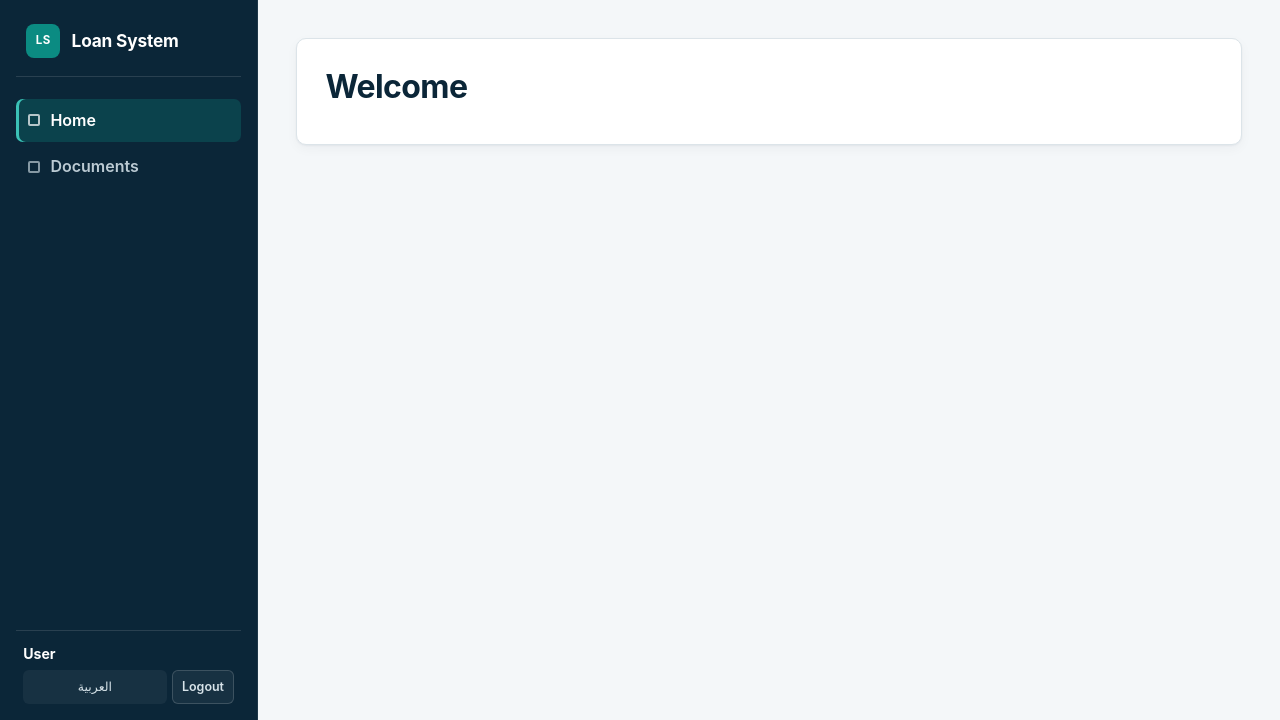
Test case: identity UI › hides administration without permission and logs out
Expected: the text "User" is shown, [23,645,56,662]
Click the button "Logout" at (203, 687), box [172,670,234,704]
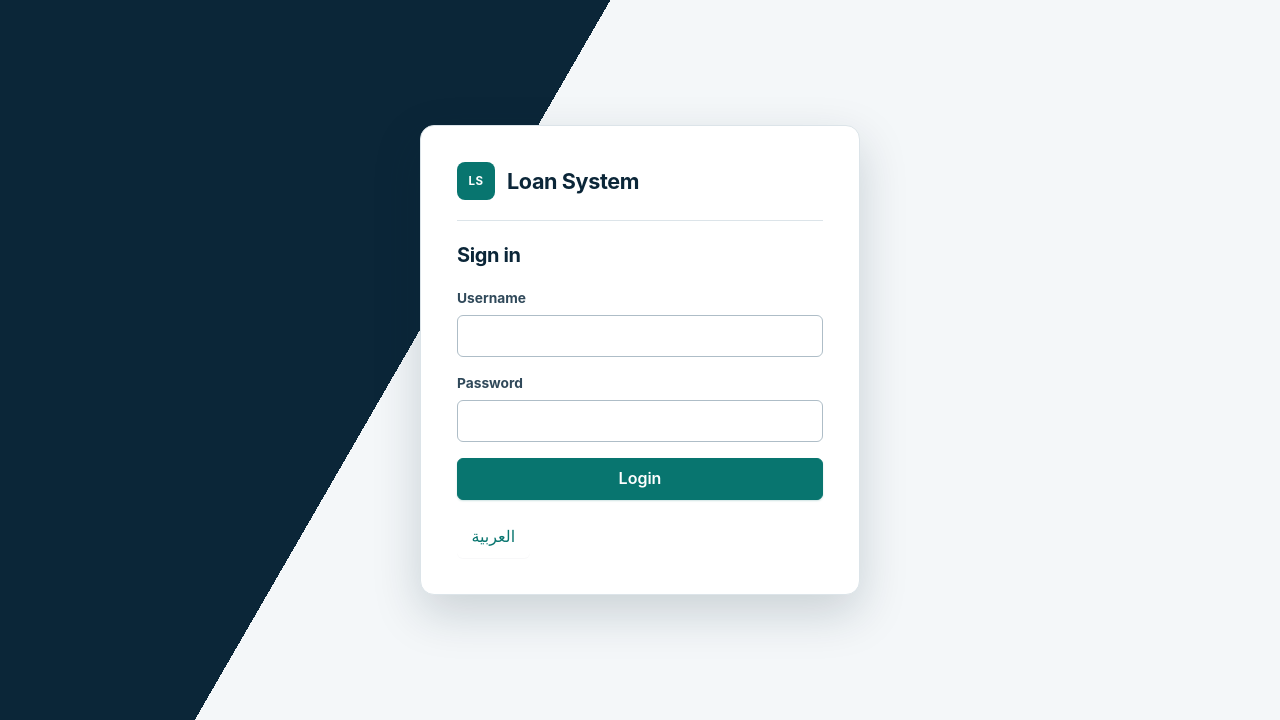
Expected: the heading "Sign in" is shown, [457,243,521,267]
